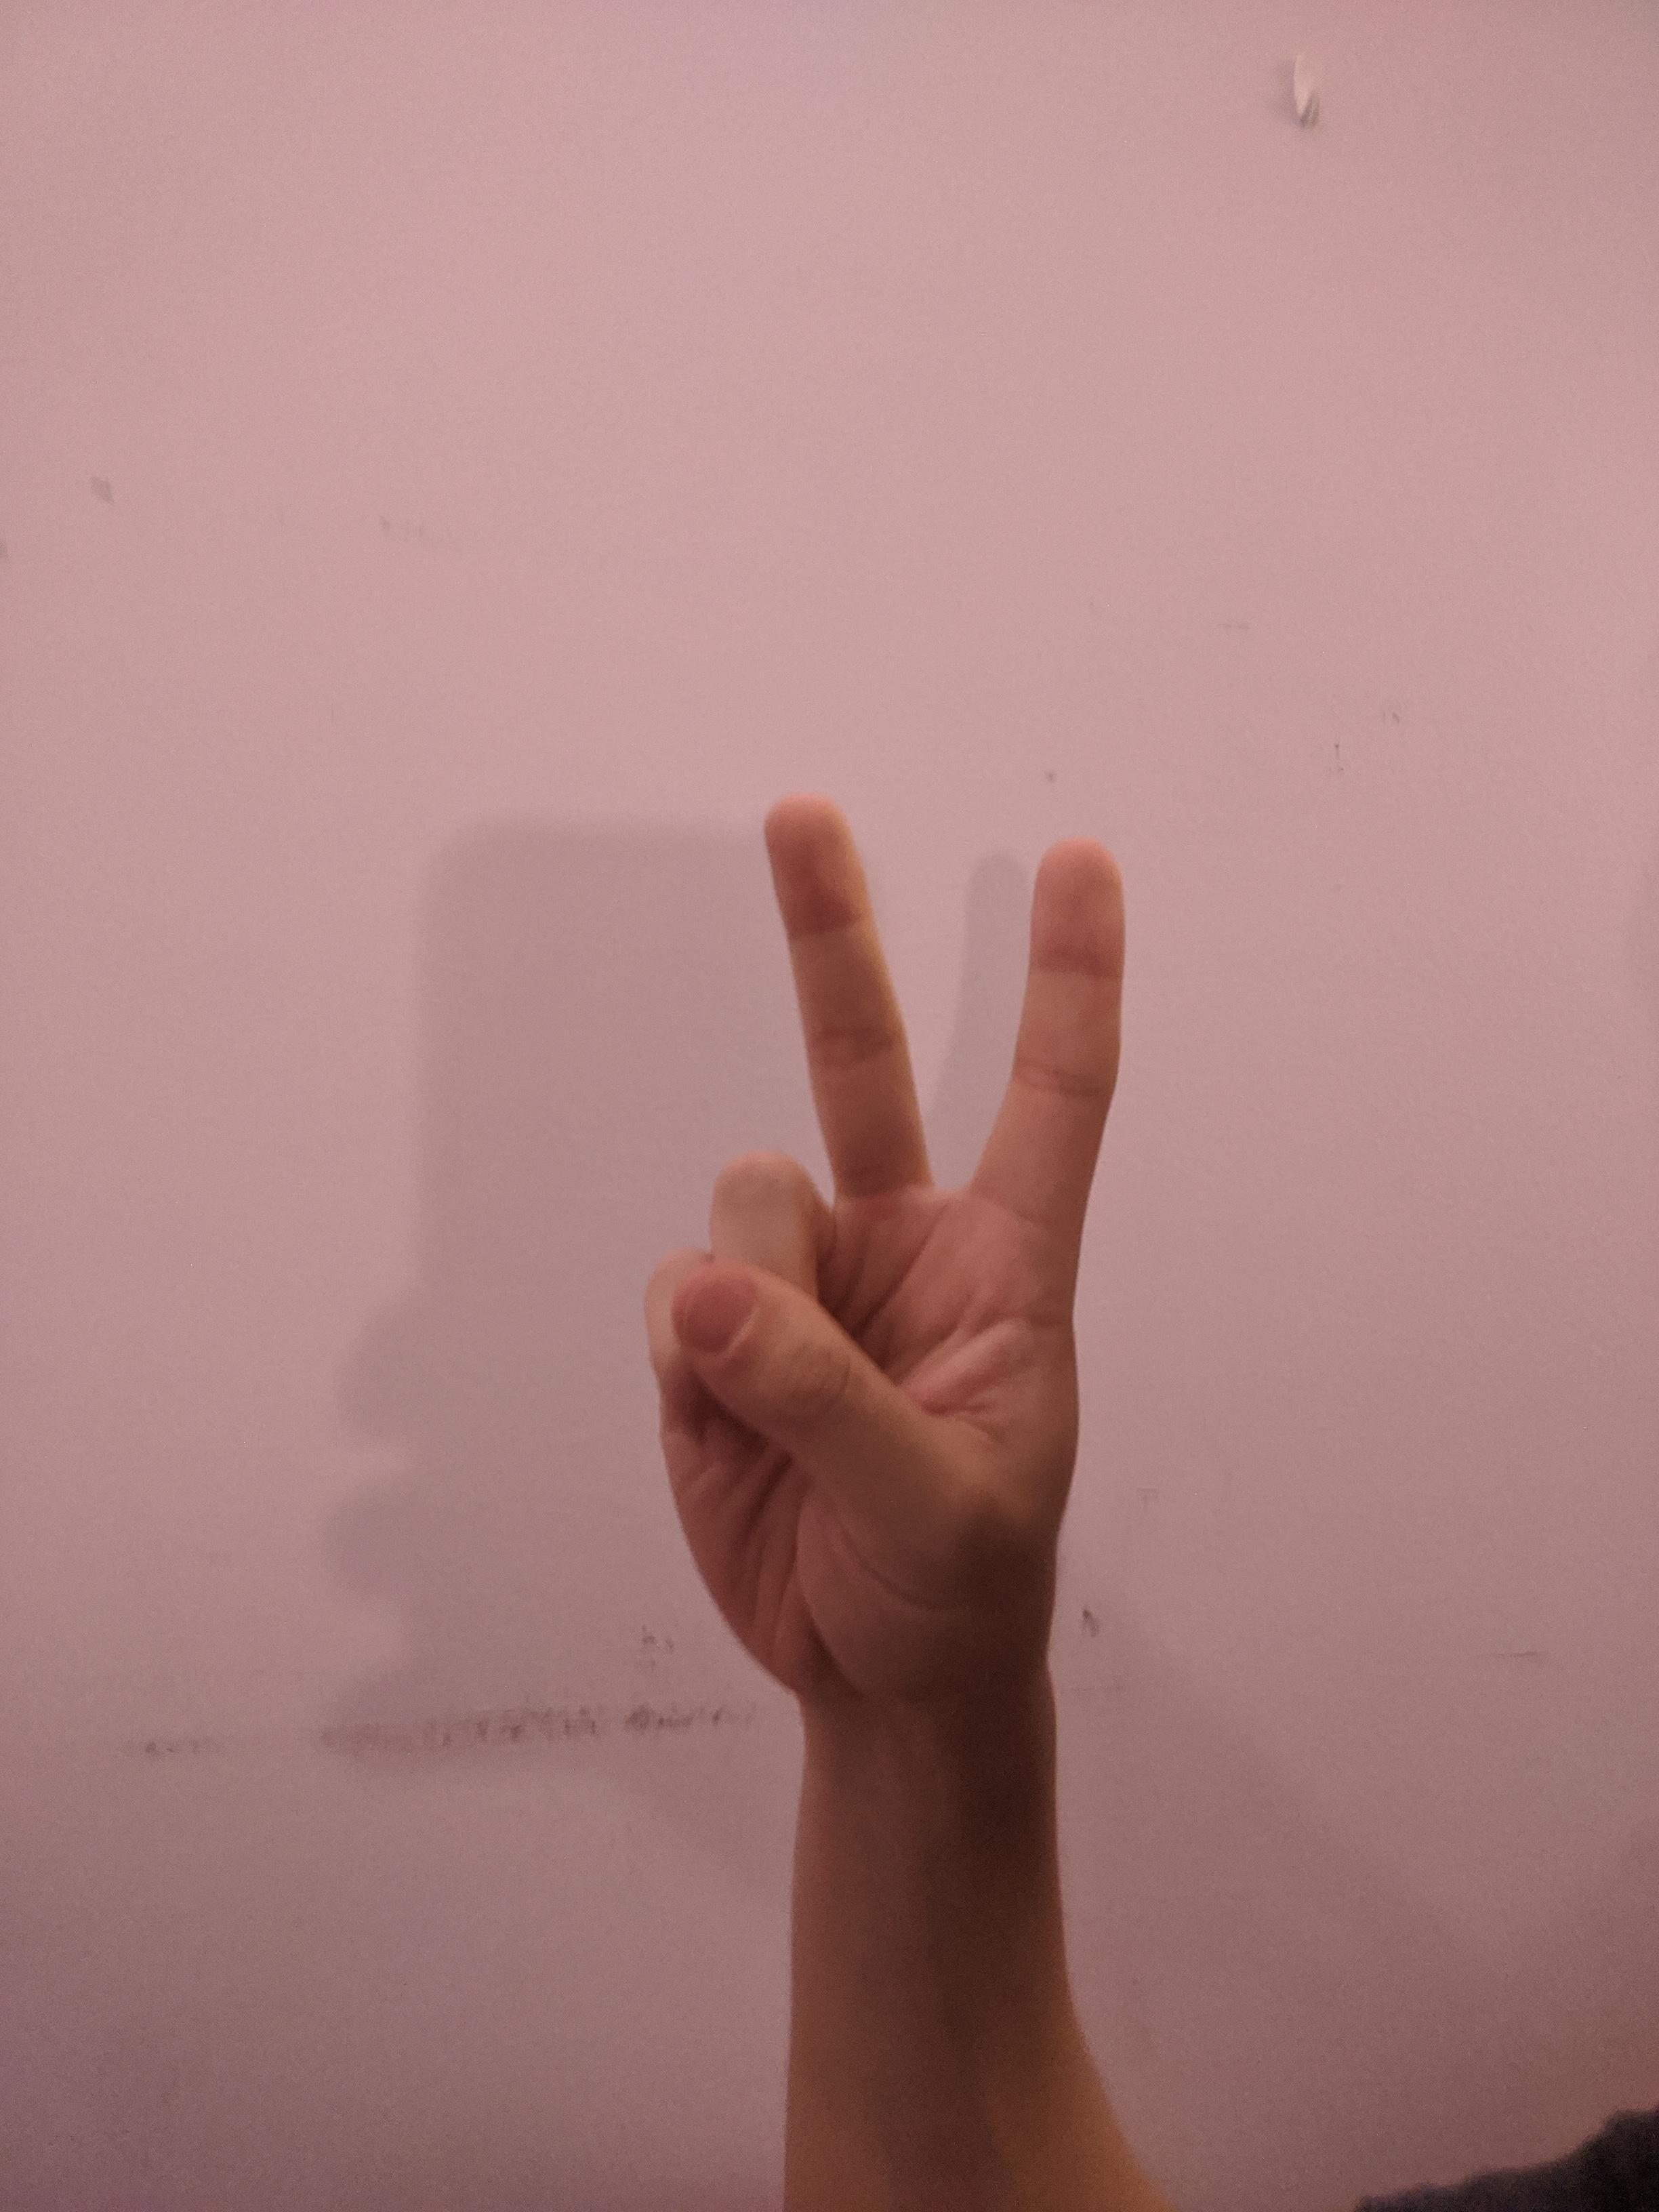V: (626, 777, 1145, 1712)
